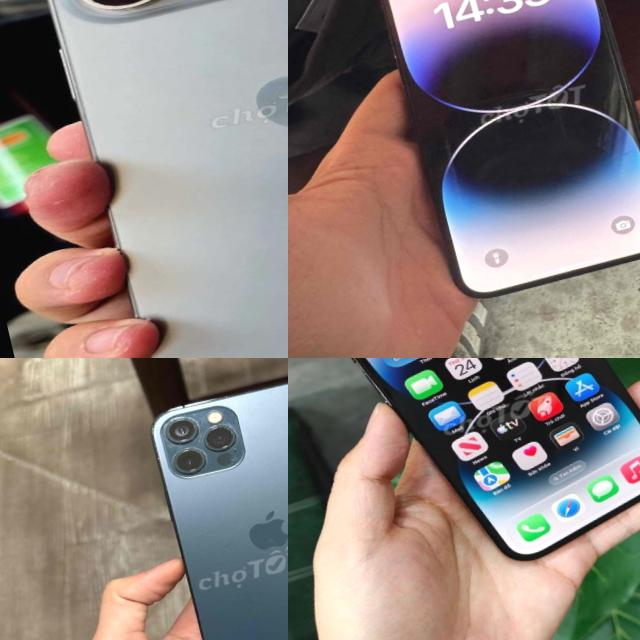gen_12_13: (130, 359, 288, 640)
gen_14: (364, 0, 640, 314), (299, 358, 640, 593)
gen_15: (0, 0, 288, 358)
